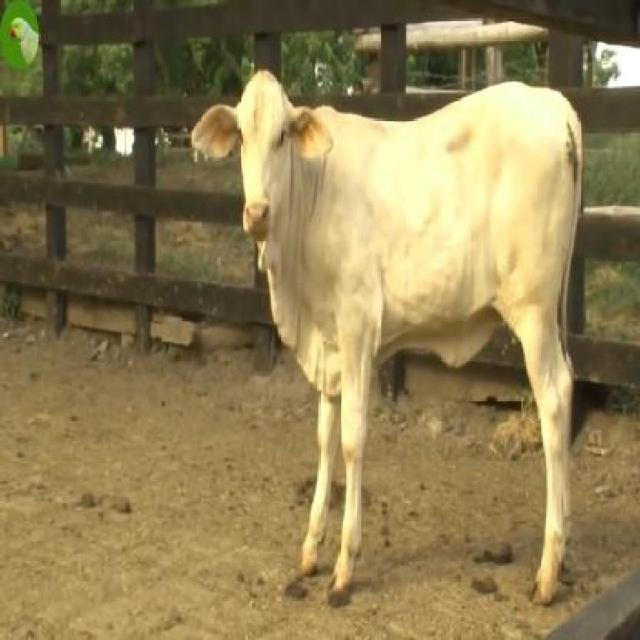Cow: (191, 71, 583, 609)
